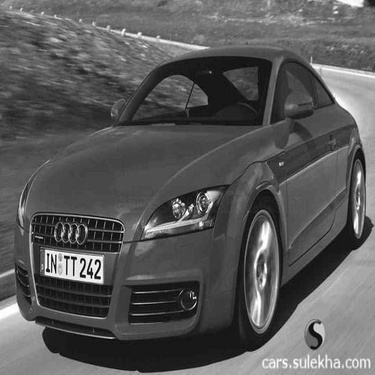car: (9, 39, 369, 350)
